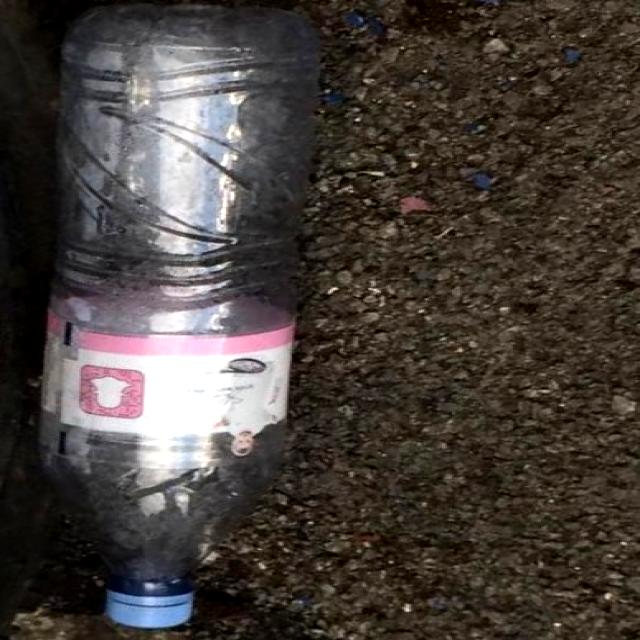Plastic: (23, 0, 330, 626)
